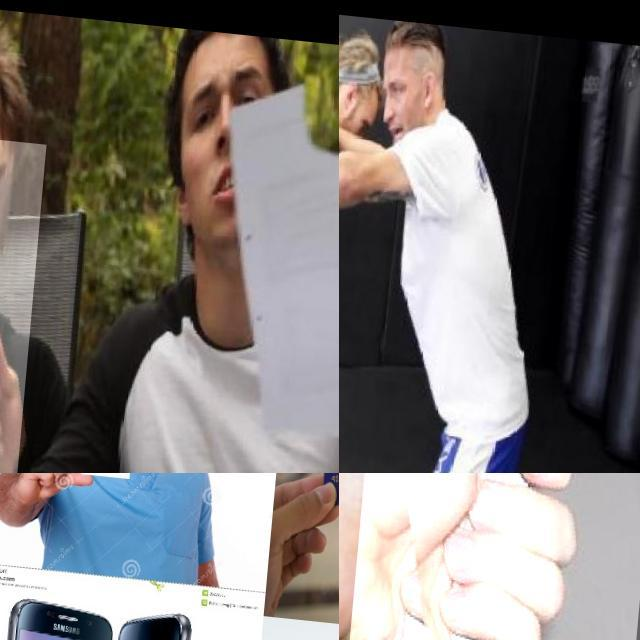-: (357, 473, 640, 640), (0, 130, 69, 473), (339, 152, 387, 249)
